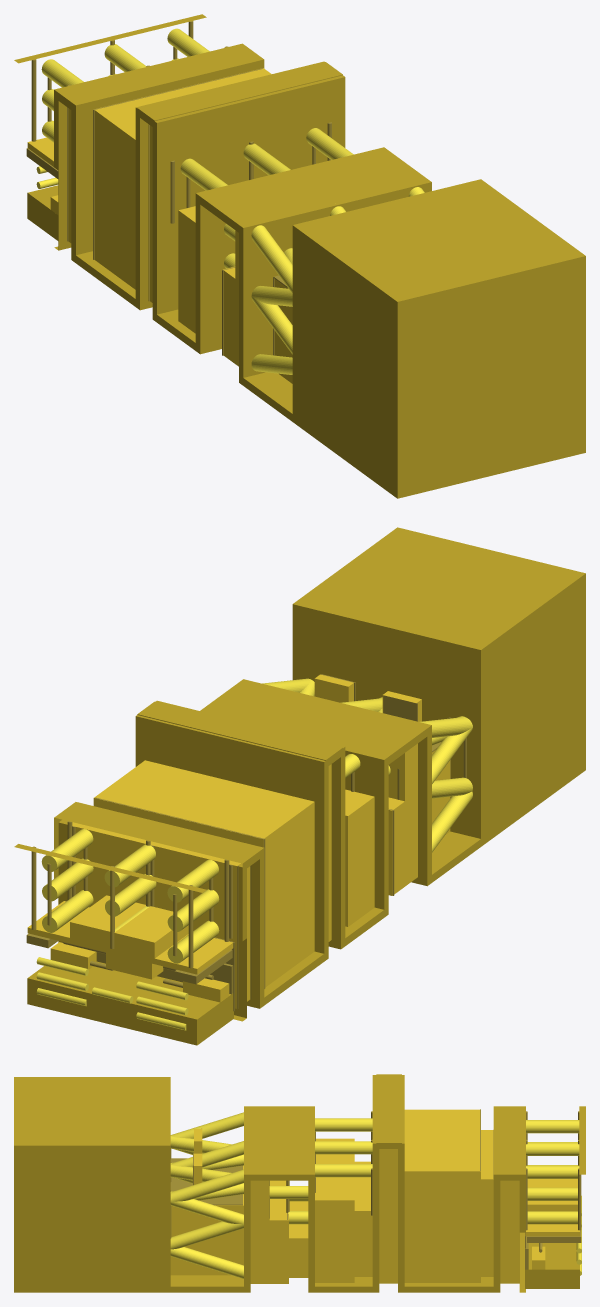
File: openscad_antilia-building.glb
3 renders of one model, top to bottom at view 1: azimuth 30°, elevation 25°; view 2: azimuth 150°, elevation 25°; view 3: azimuth 270°, elevation 25°, orthographic. The views are drawn at different scales.
Parts seen in each view (by area): view 1: object; view 2: object; view 3: object.
Boxes of the visible parts, x1=… form: object: x1=14, y1=14, x2=585, y2=498; object: x1=14, y1=527, x2=585, y2=1045; object: x1=14, y1=1074, x2=585, y2=1292.
Bounding box in the file's own units: 36.89 × 37.83 × 130.
